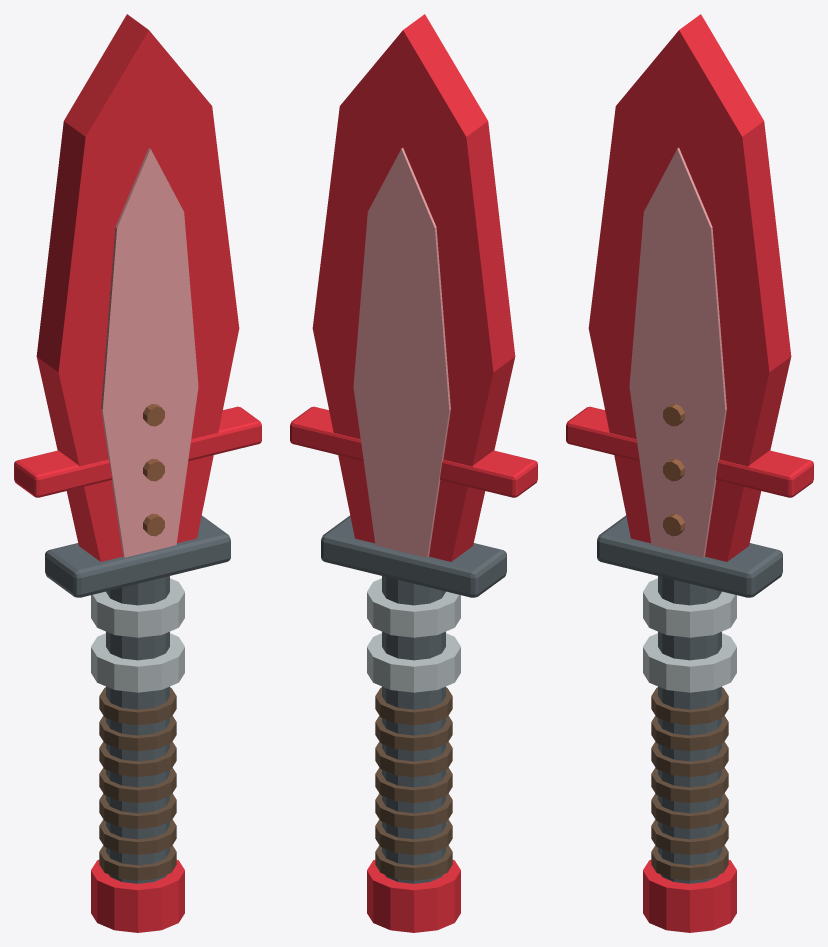
File: PhaseBlade.fbx
3 renders of one model, left to right at view 1: azimuth 30°, elevation 25°; view 2: azimuth 150°, elevation 25°; view 3: azimuth 330°, elevation 25°, orthographic.
Parts seen in each view (by area): view 1: Silhouette.006, Noyau.006, Manche.006, Garde.006, Pommeau.006, Collier.012, Collier.013, Ailette, Ailette.001, Bande_06.006, Bande_02.006, Bande_00.006 (+4 smaller); view 2: Silhouette.006, Noyau.006, Manche.006, Garde.006, Pommeau.006, Collier.012, Collier.013, Ailette, Ailette.001, Bande_06.006, Bande_02.006, Bande_00.006 (+4 smaller); view 3: Silhouette.006, Noyau.006, Manche.006, Garde.006, Pommeau.006, Collier.012, Collier.013, Ailette.001, Ailette, Bande_06.006, Bande_02.006, Bande_00.006 (+4 smaller).
Boxes of the visible parts, left/top/right/bottom form: Silhouette.006: left=36, top=14, right=239, bottom=561; Noyau.006: left=101, top=148, right=198, bottom=557; Manche.006: left=106, top=576, right=169, bottom=883; Garde.006: left=45, top=515, right=230, bottom=597; Pommeau.006: left=91, top=860, right=184, bottom=932; Collier.012: left=91, top=633, right=184, bottom=692; Collier.013: left=91, top=578, right=184, bottom=637; Ailette: left=14, top=450, right=111, bottom=497; Ailette.001: left=188, top=406, right=261, bottom=461; Bande_06.006: left=99, top=687, right=176, bottom=725; Bande_02.006: left=99, top=793, right=176, bottom=828; Bande_00.006: left=99, top=845, right=176, bottom=880; Silhouette.006: left=312, top=14, right=515, bottom=561; Noyau.006: left=353, top=148, right=450, bottom=557; Manche.006: left=382, top=576, right=445, bottom=883; Garde.006: left=321, top=515, right=506, bottom=597; Pommeau.006: left=367, top=860, right=460, bottom=932; Collier.012: left=367, top=633, right=460, bottom=692; Collier.013: left=367, top=578, right=460, bottom=637; Ailette: left=440, top=450, right=537, bottom=497; Ailette.001: left=290, top=406, right=363, bottom=461; Bande_06.006: left=375, top=687, right=452, bottom=725; Bande_02.006: left=375, top=793, right=452, bottom=828; Bande_00.006: left=375, top=845, right=452, bottom=880; Silhouette.006: left=588, top=14, right=791, bottom=561; Noyau.006: left=629, top=148, right=726, bottom=557; Manche.006: left=658, top=576, right=721, bottom=883; Garde.006: left=597, top=515, right=782, bottom=597; Pommeau.006: left=643, top=860, right=736, bottom=932; Collier.012: left=643, top=633, right=736, bottom=692; Collier.013: left=643, top=578, right=736, bottom=637; Ailette.001: left=716, top=450, right=813, bottom=497; Ailette: left=566, top=406, right=639, bottom=461; Bande_06.006: left=651, top=687, right=728, bottom=725; Bande_02.006: left=651, top=793, right=728, bottom=828; Bande_00.006: left=651, top=845, right=728, bottom=880.
Bounding box in the file's own units: 78 × 292 × 28.
